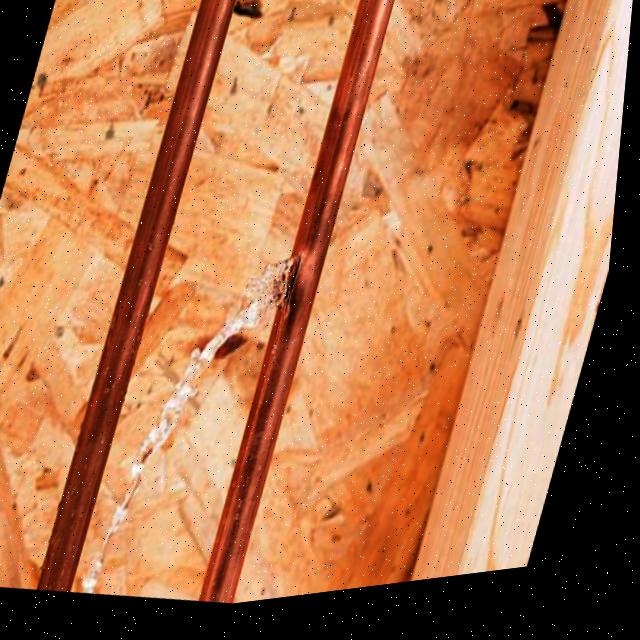rupture: (277, 255, 310, 334)
